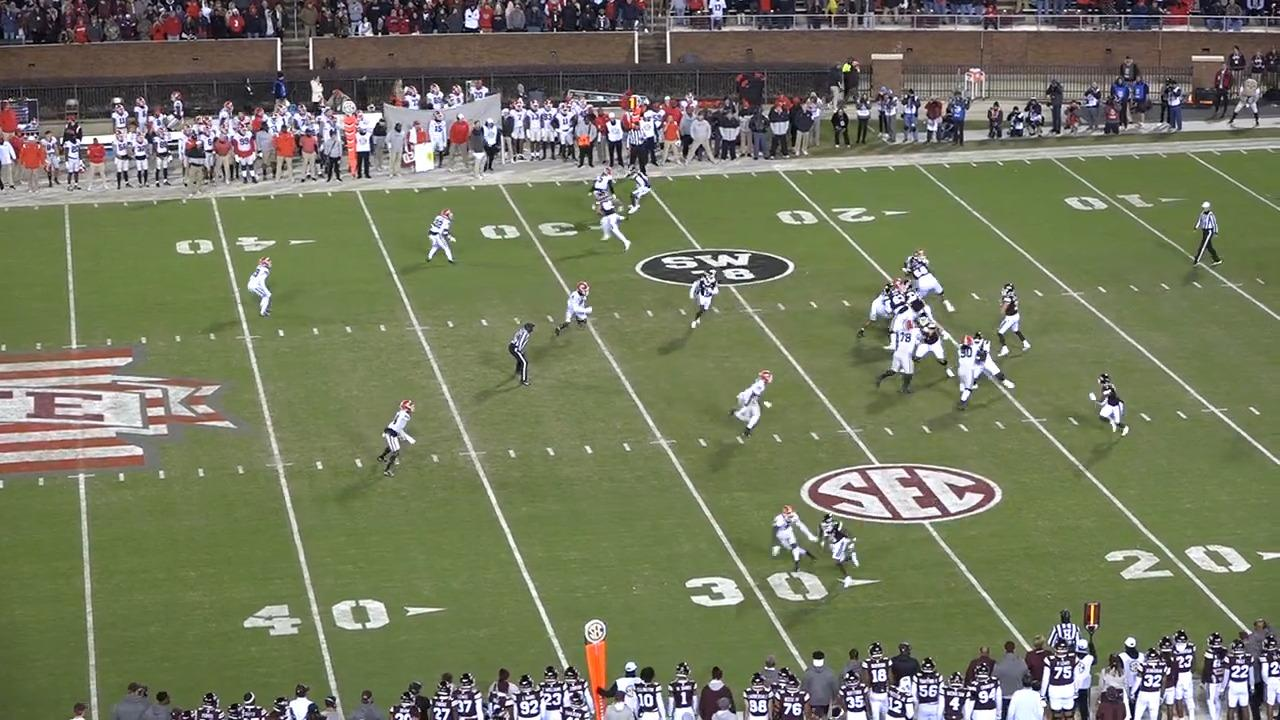defense: (768, 502, 816, 578), (726, 367, 771, 442), (376, 396, 417, 477), (875, 322, 918, 396), (556, 279, 597, 337), (953, 335, 981, 412), (421, 208, 455, 267), (251, 256, 279, 321), (856, 295, 890, 339), (588, 166, 617, 214), (899, 249, 925, 275)
oline: (961, 334, 1011, 395), (909, 254, 959, 314), (911, 313, 955, 379), (882, 283, 910, 350), (900, 282, 933, 321)
qb: (995, 282, 1031, 359)
ref: (1188, 199, 1219, 266), (504, 322, 533, 392), (1050, 606, 1084, 656), (623, 123, 650, 179)
skill: (814, 511, 862, 590), (1093, 368, 1137, 437), (590, 190, 629, 252), (692, 264, 727, 329), (627, 167, 652, 217)
